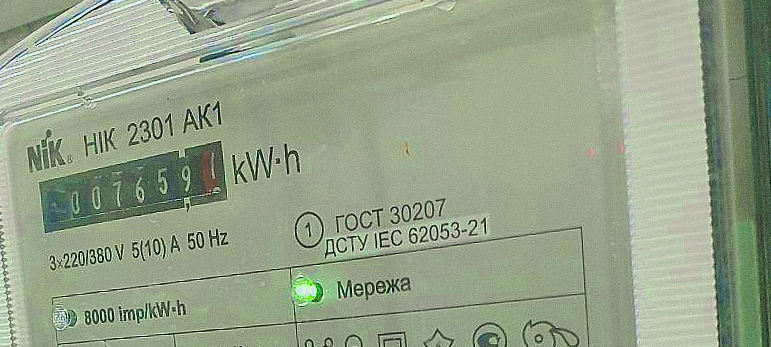0: (68, 186, 82, 215), (89, 183, 103, 211)
1: (205, 150, 219, 182)
5: (154, 165, 171, 197)
6: (132, 173, 147, 204)
7: (109, 176, 125, 209)
9: (178, 160, 194, 195)
screen: (23, 133, 248, 239)
